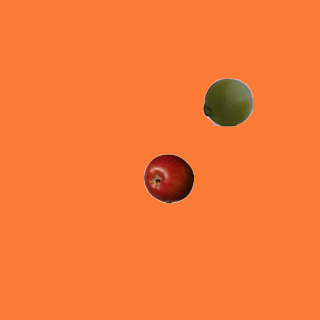Apple Braeburn: (143, 153, 193, 203)
Grape White 4: (202, 76, 252, 126)
